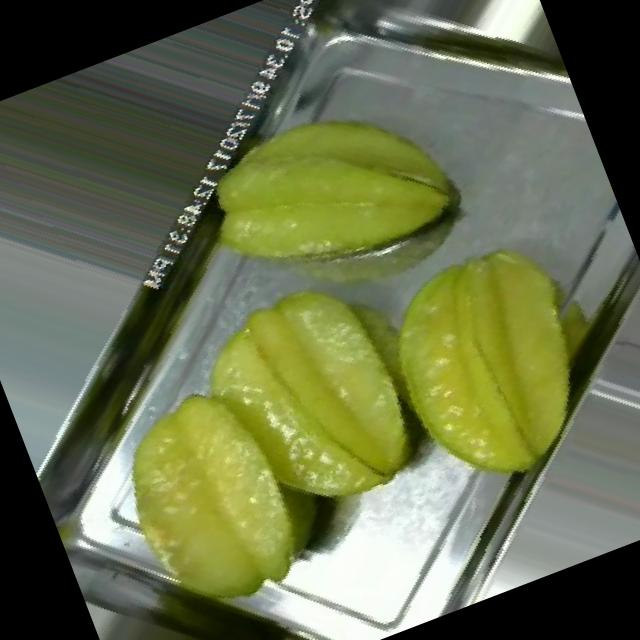fruit: (29, 206, 516, 640), (289, 163, 640, 570), (147, 23, 519, 370)
